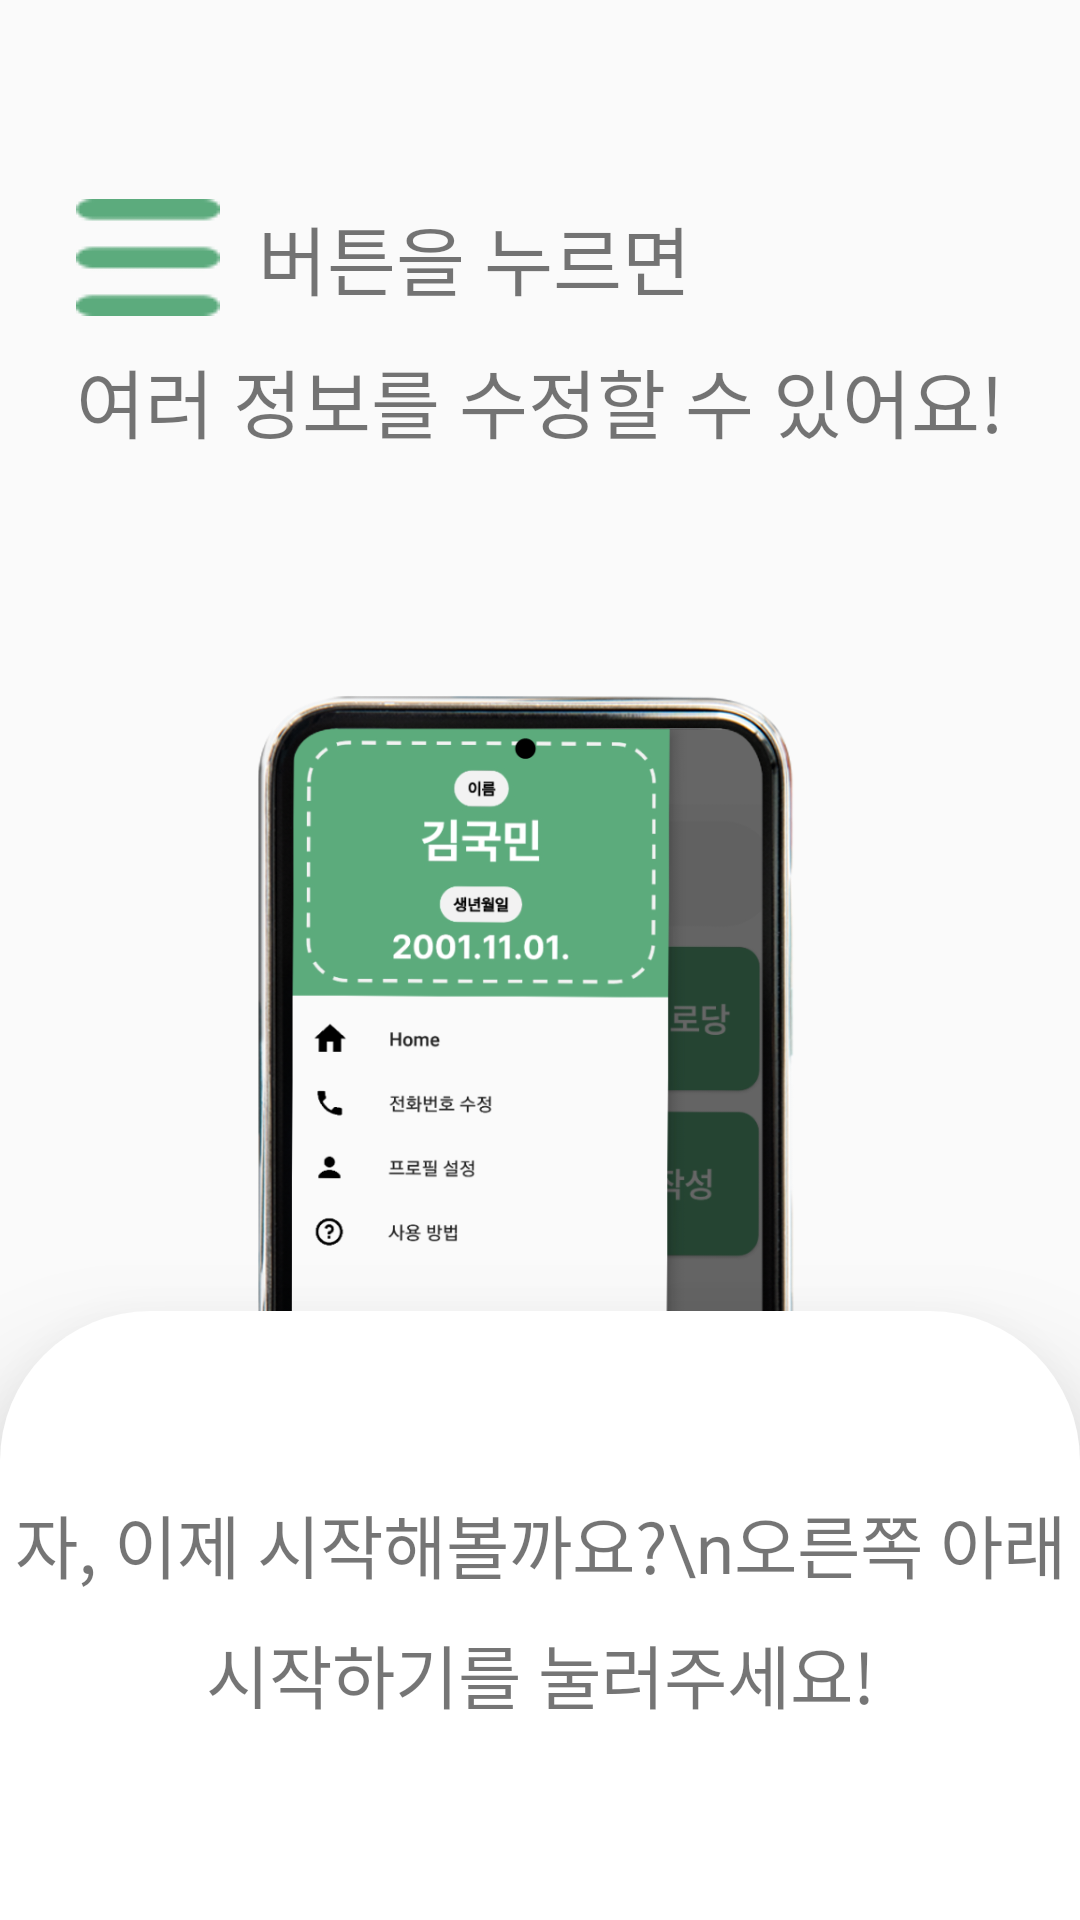

Icon bounding boxes for this 1080×1920 phone screenshot, format (x1, y1, x2, y2):
tuto menu: (76, 199, 220, 316)
